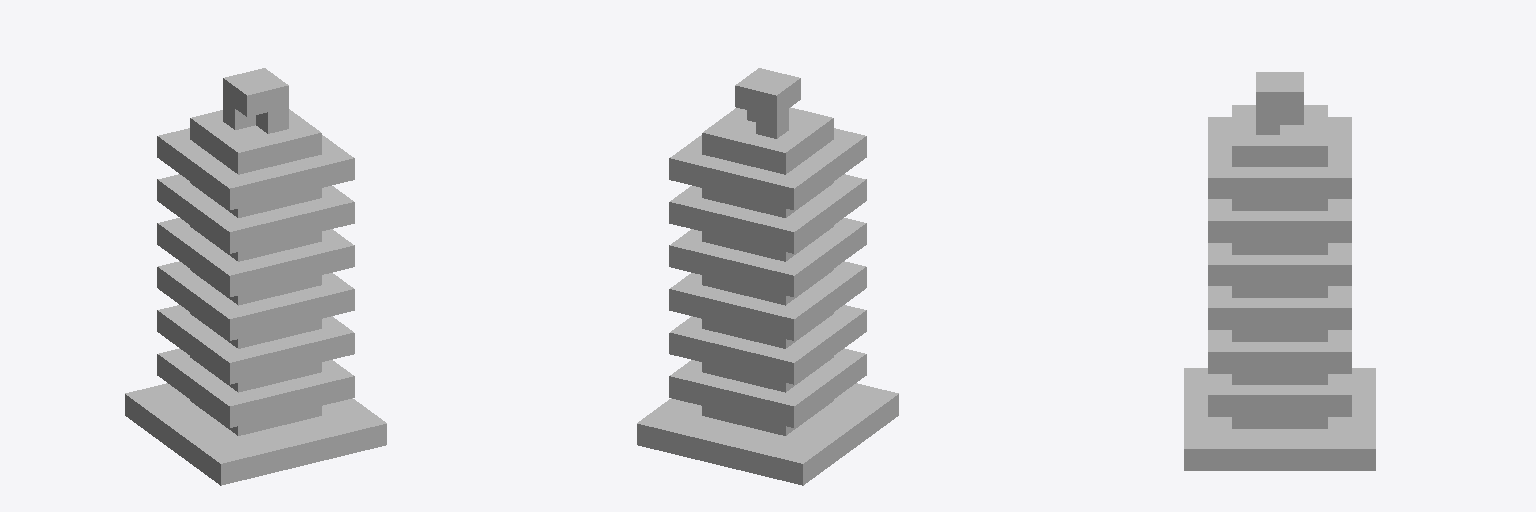
File: varistor.obj
The picture shows the model from 3 angles: view 1: azimuth 30°, elevation 25°; view 2: azimuth 150°, elevation 25°; view 3: azimuth 270°, elevation 25°; orthographic projection.
Visible parts, largest first — view 1: cube; view 2: cube; view 3: cube.
Boxes of the visible parts, <box> form: cube: <box>125,68,386,485</box>; cube: <box>637,68,898,485</box>; cube: <box>1184,72,1375,470</box>.
Bounding box in the file's own units: 0.5 × 1 × 0.5.